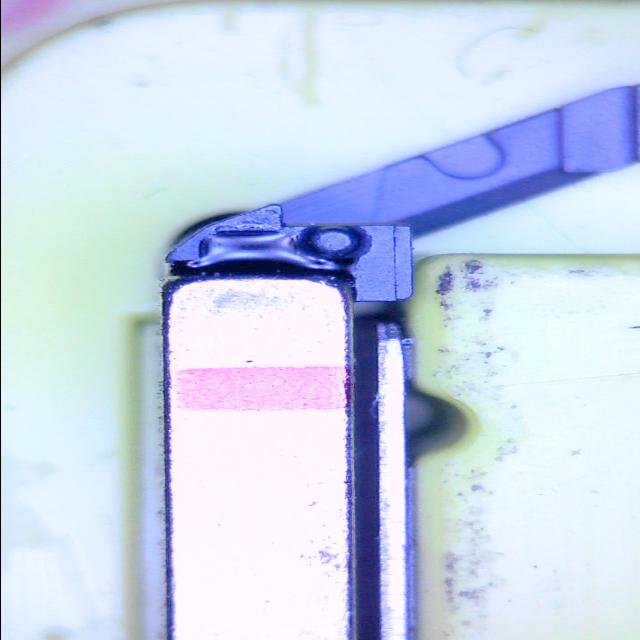over: (198, 230, 300, 272)
